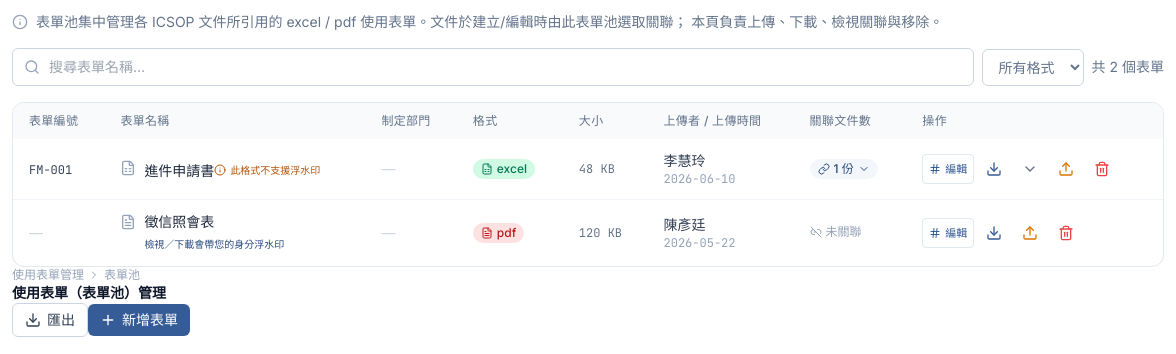
UsageFormManagementPage 匯出之使用者可見回饋（AC-X10 逐字文案） › 其他錯誤 → 訊息本文為使用者語言、代碼走 code 小字欄（不吞錯、不顯示成功）
Click the button "匯出" at (50, 320), box top-left (12, 303), bottom-right (88, 337)
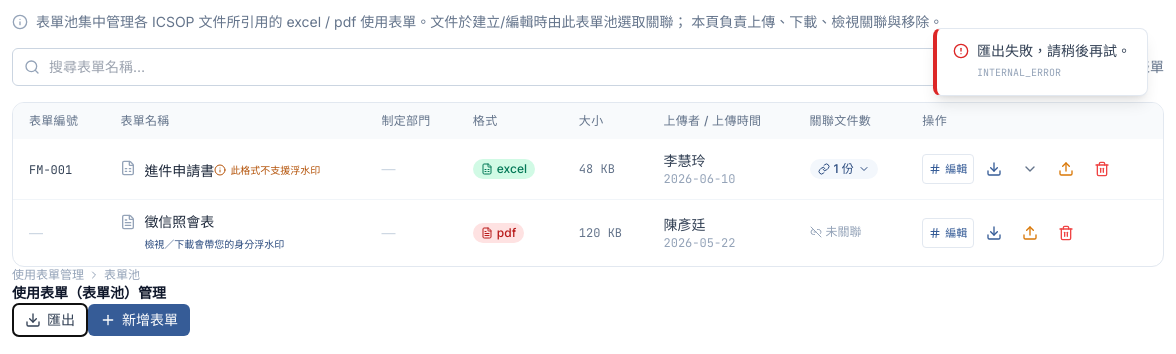
Check: the text "匯出失敗，請稍後再試。" is shown, box top-left (977, 42), bottom-right (1131, 59)
Check: the text "INTERNAL_ERROR" is shown, box top-left (977, 66), bottom-right (1061, 79)
